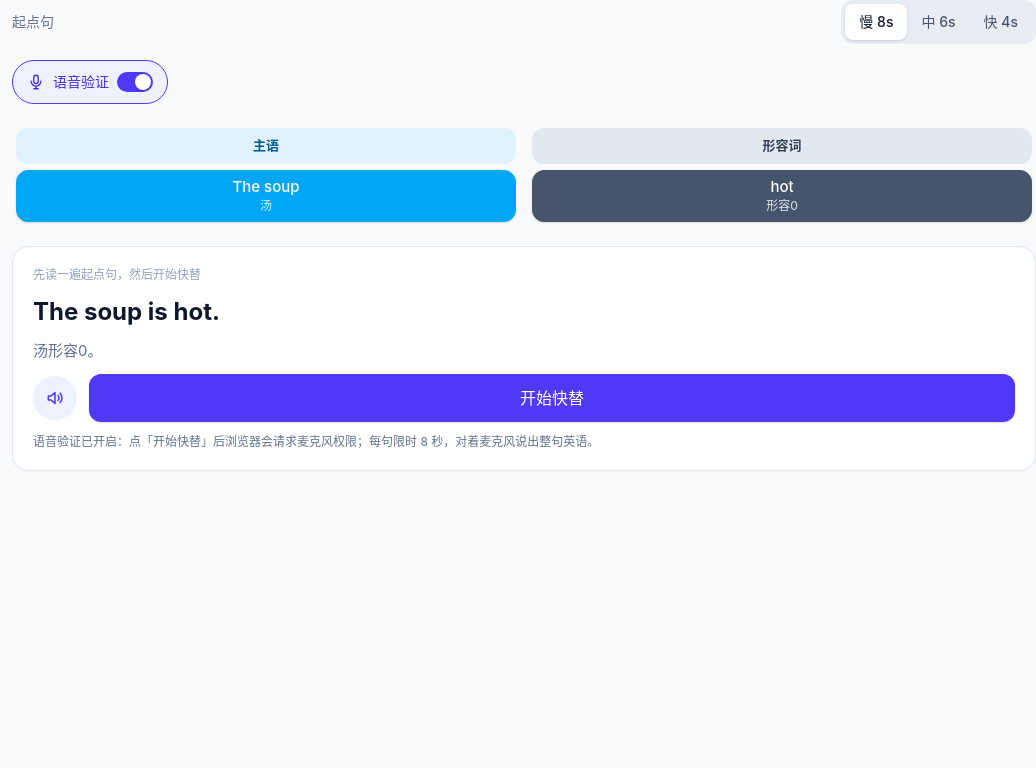
Test: SingleSwapDrill voice mode › is lenient: contractions-free fillers, case, punctuation and alternatives count
Click the button "开始快替".
click(552, 398)  # box [89,374,1015,422]
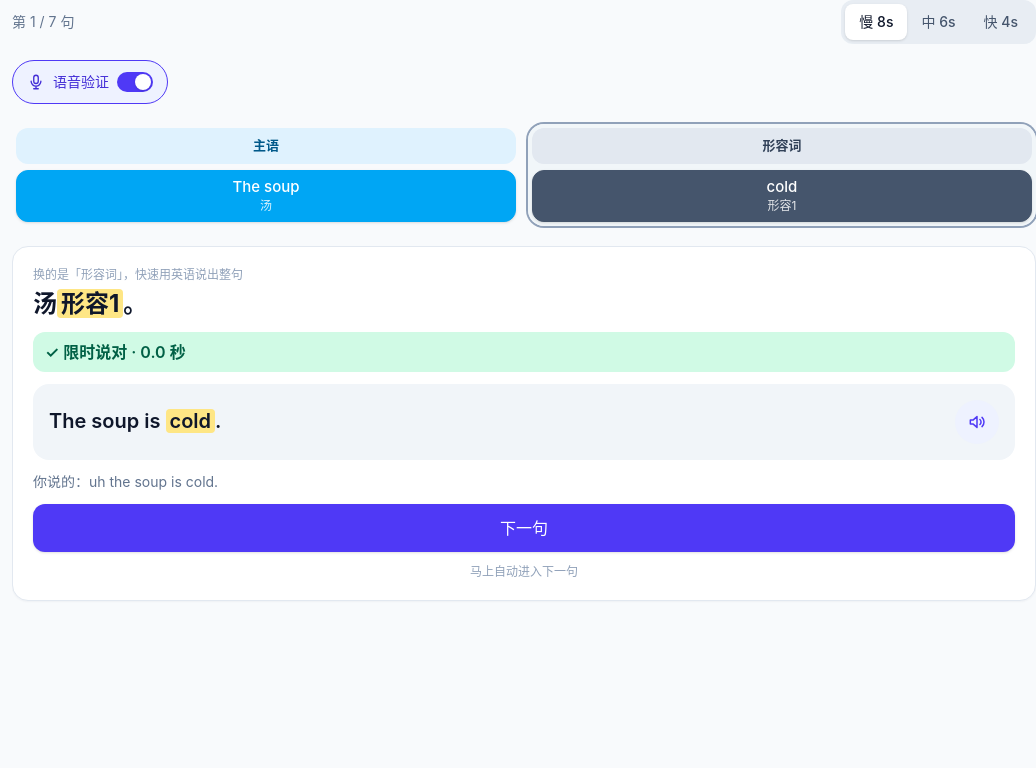
Result: the message with test id "swap-result" shows "✓ 限时说对" at [45,342,140,362]
